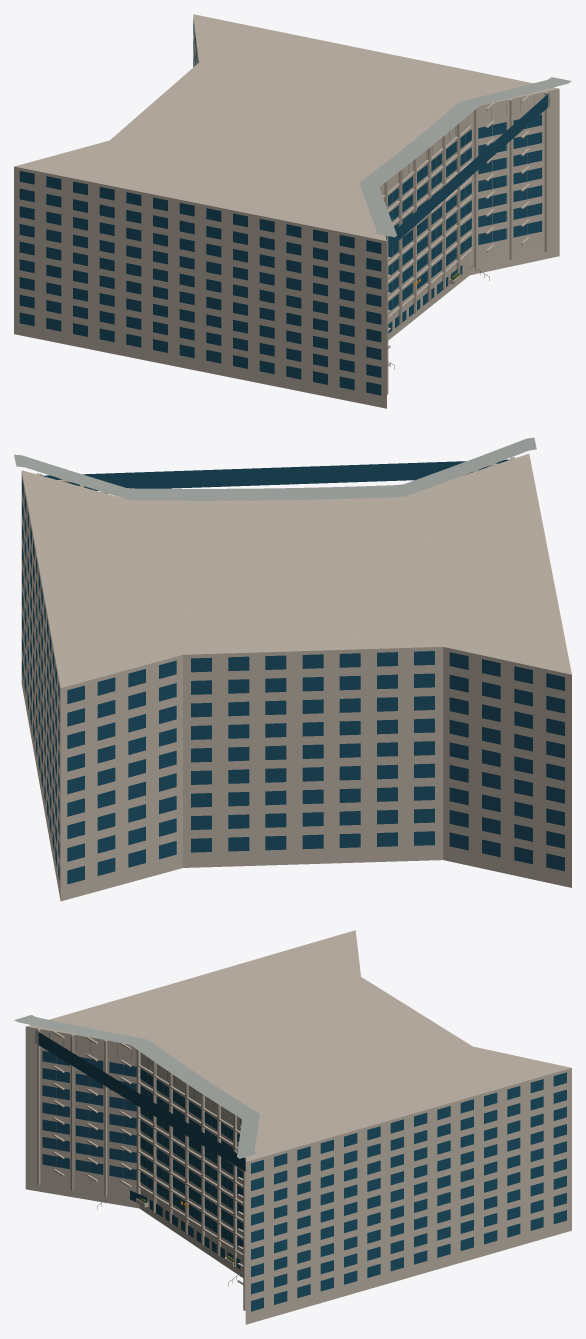
The picture shows the model from 3 angles, top to bottom: view 1: azimuth 30°, elevation 25°; view 2: azimuth 150°, elevation 25°; view 3: azimuth 270°, elevation 25°; orthographic projection. The views are drawn at different scales.
Parts seen in each view (by area): view 1: B13_library, Library_refined_details, V07_library_window_returns, B13_library_plinth; view 2: B13_library, Library_refined_details, B13_library_plinth; view 3: B13_library, Library_refined_details, V07_library_window_returns, B13_library_plinth.
Boxes of the visible parts, bbox=[...] form: B13_library: bbox=[14, 14, 559, 400]; Library_refined_details: bbox=[19, 21, 571, 395]; V07_library_window_returns: bbox=[382, 91, 547, 394]; B13_library_plinth: bbox=[14, 248, 559, 408]; B13_library: bbox=[21, 453, 571, 890]; Library_refined_details: bbox=[14, 437, 564, 884]; B13_library_plinth: bbox=[21, 674, 571, 901]; B13_library: bbox=[25, 930, 571, 1316]; Library_refined_details: bbox=[14, 1015, 566, 1311]; V07_library_window_returns: bbox=[37, 1029, 246, 1310]; B13_library_plinth: bbox=[25, 1181, 571, 1324].
Bounding box in the file's own units: 115 × 38.59 × 115.
Materials: 7 (1 with a texture image).
